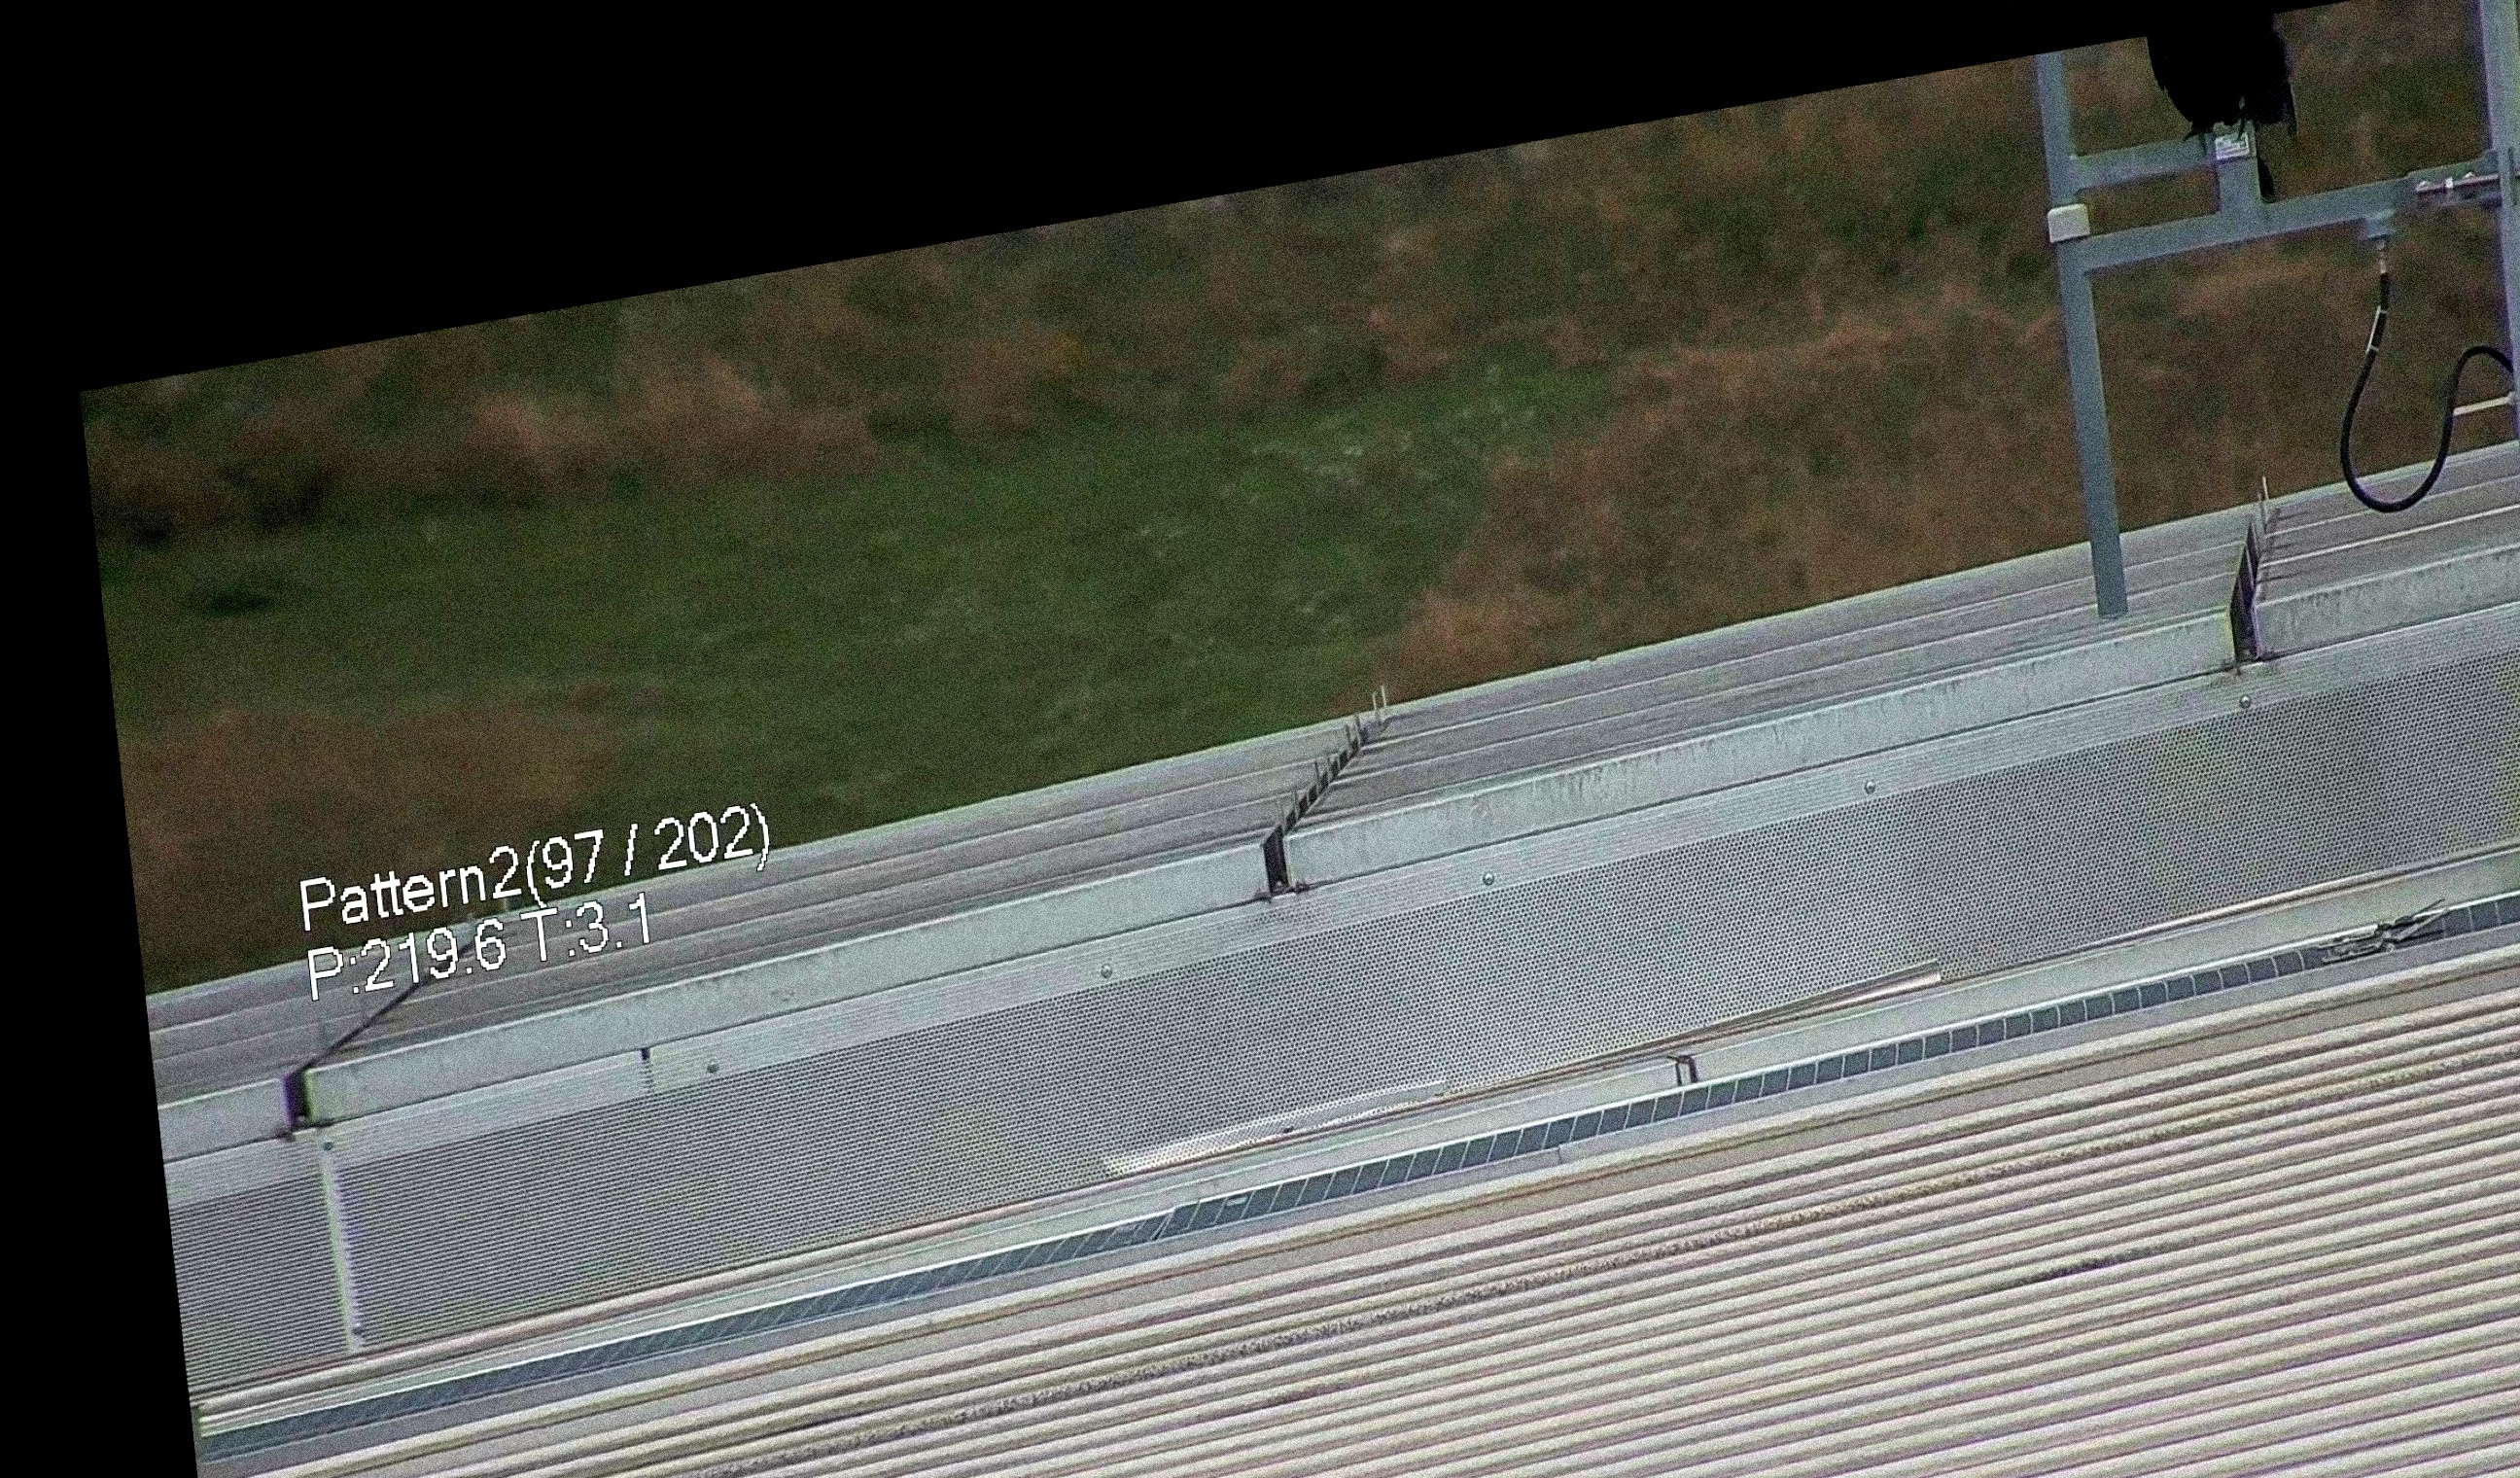Other: (2149, 5, 2337, 206)
